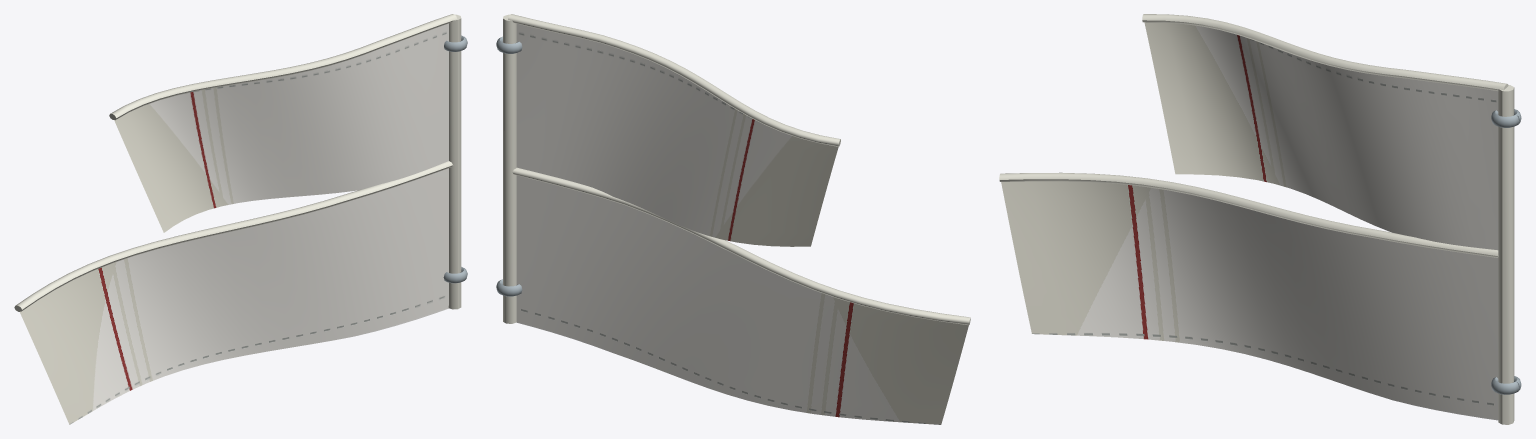
File: Pennant_18_SR_濃藍・逆舷.glb
The picture shows the model from 3 angles, left to right: view 1: azimuth 30°, elevation 25°; view 2: azimuth 150°, elevation 25°; view 3: azimuth 330°, elevation 25°; orthographic projection. The views are drawn at different scales.
Visible parts, largest first — view 1: Pennant_18_SR; view 2: Pennant_18_SR; view 3: Pennant_18_SR.
Boxes of the visible parts, left/top/right/bottom form: Pennant_18_SR: left=14, top=14, right=467, bottom=424; Pennant_18_SR: left=496, top=14, right=970, bottom=424; Pennant_18_SR: left=999, top=14, right=1521, bottom=424.
Size of the model in its own units: 0.2935 by 0.1892 by 0.0378.
Materials: 3 (3 with a texture image).
